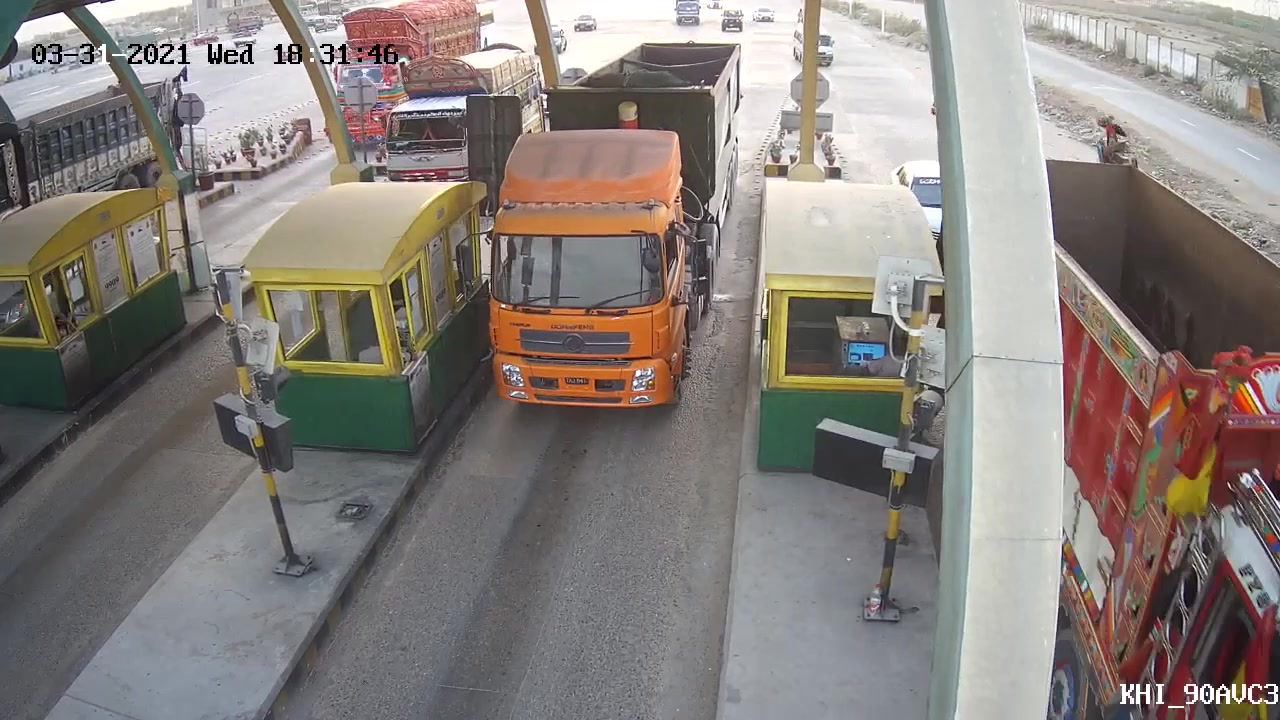F5: (446, 43, 747, 418)
